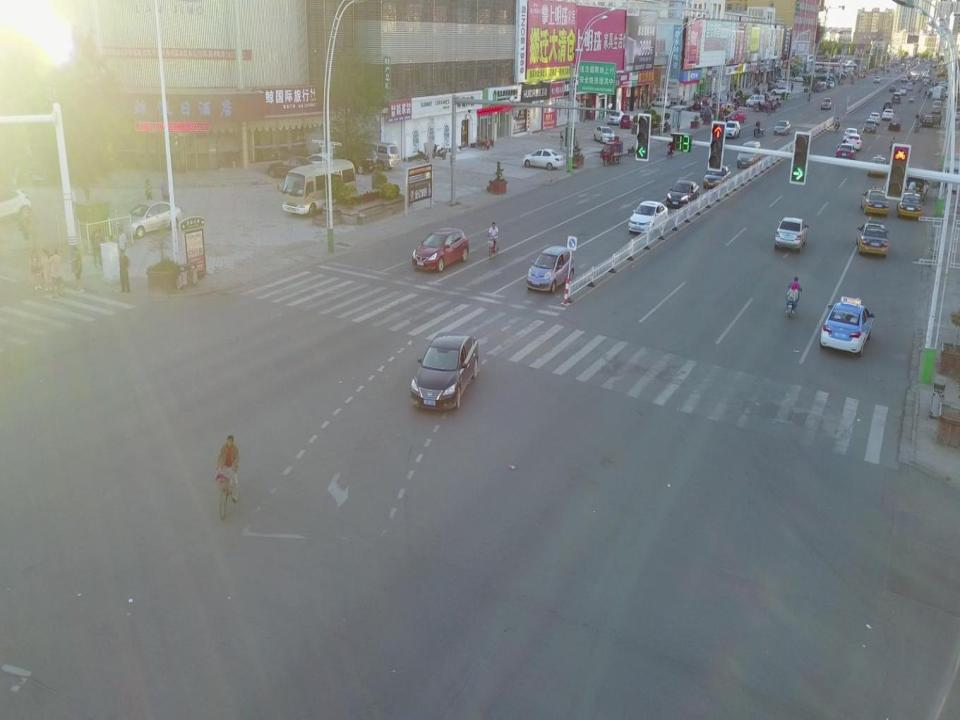bus: (277, 159, 356, 217)
car: (410, 332, 478, 408), (820, 296, 876, 356), (122, 200, 183, 240), (412, 229, 468, 271), (527, 246, 573, 292), (627, 200, 668, 233), (26, 146, 63, 182), (269, 156, 318, 183), (774, 216, 809, 253), (856, 220, 889, 258), (298, 152, 344, 176), (666, 180, 699, 210), (522, 148, 562, 170), (896, 189, 924, 219), (860, 188, 888, 216), (904, 172, 930, 202), (703, 164, 731, 189), (868, 154, 890, 178), (836, 143, 856, 164), (593, 125, 615, 143), (845, 133, 862, 152), (843, 127, 860, 143), (607, 110, 625, 125), (921, 115, 939, 127), (774, 121, 790, 134), (862, 120, 876, 133), (868, 112, 881, 125), (724, 103, 738, 115), (770, 87, 790, 95), (889, 118, 902, 130), (882, 109, 894, 121), (821, 98, 832, 110), (793, 74, 807, 83), (766, 84, 781, 92), (888, 85, 896, 92), (906, 82, 912, 91), (873, 76, 880, 83)
truck: (931, 86, 947, 102)
van: (334, 143, 378, 175), (357, 140, 400, 172), (0, 188, 31, 225), (737, 140, 761, 168), (600, 139, 623, 166), (722, 120, 740, 138), (745, 94, 765, 108), (726, 110, 746, 123), (620, 114, 635, 130), (650, 96, 670, 108), (931, 100, 943, 113), (882, 101, 894, 112), (892, 92, 902, 104), (901, 86, 907, 96)
